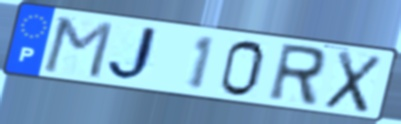0: (217, 38, 269, 98)
1: (187, 35, 217, 91)
J: (105, 25, 166, 84)
M: (40, 15, 117, 81)
R: (265, 41, 329, 109)
X: (321, 48, 386, 115)
